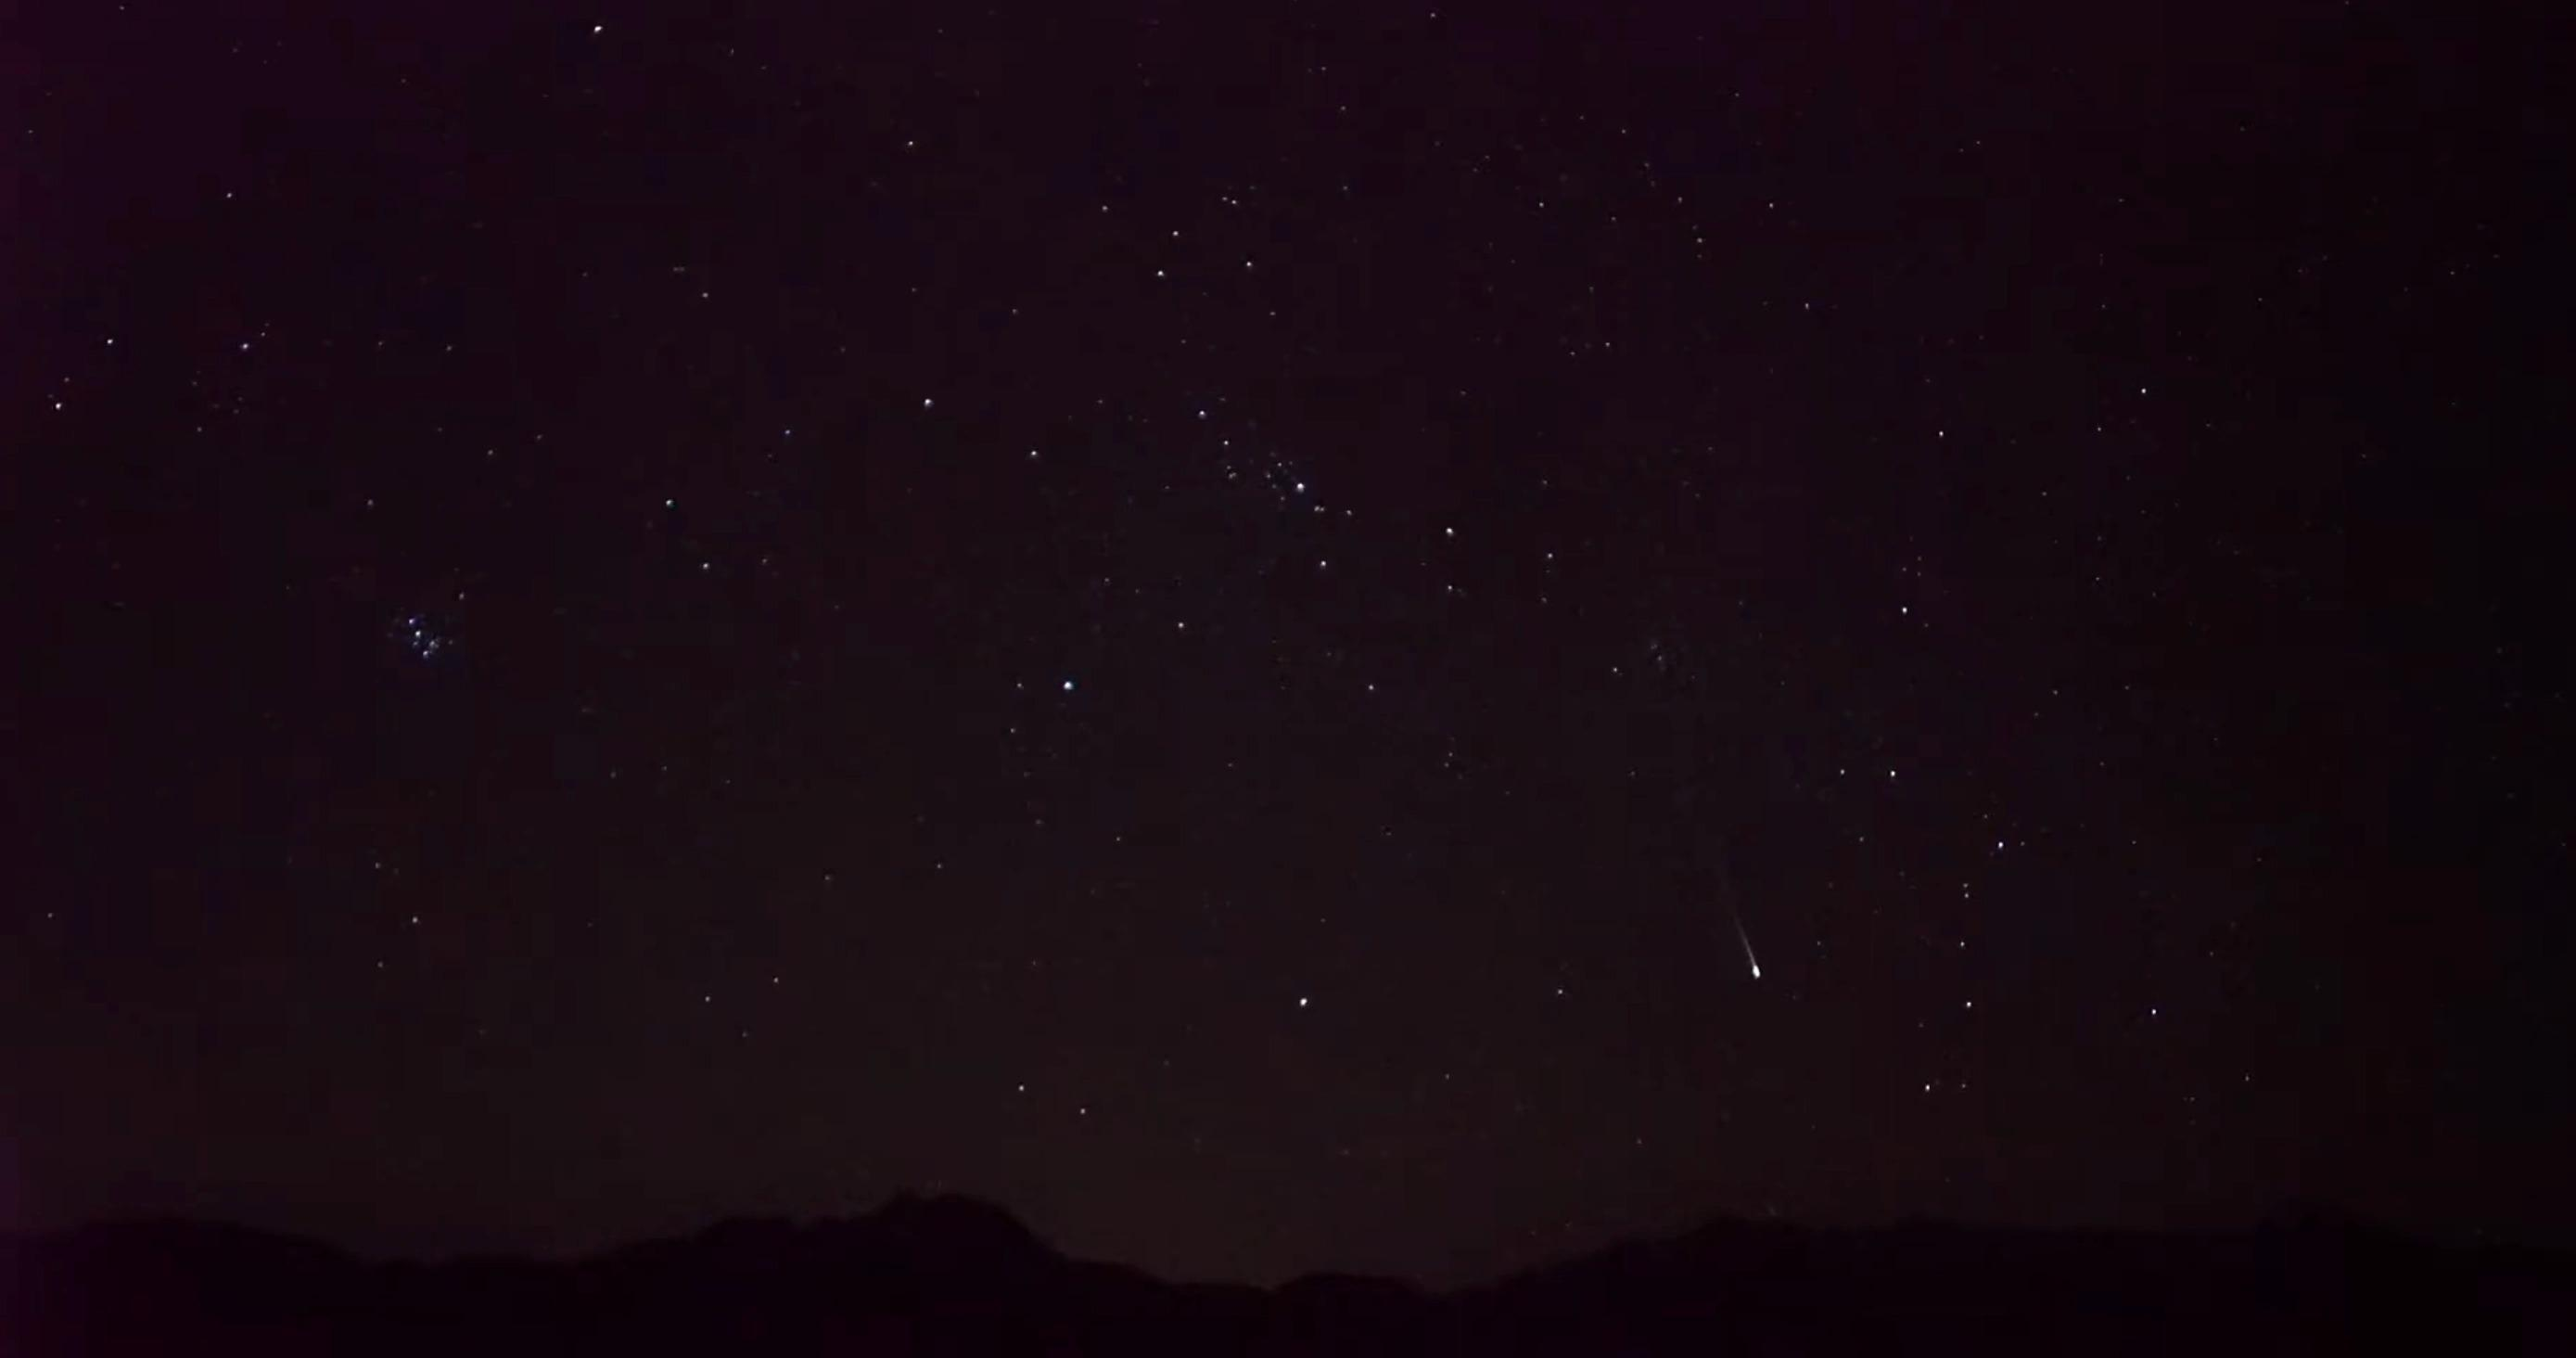meteorite: (1680, 823, 1814, 997)
